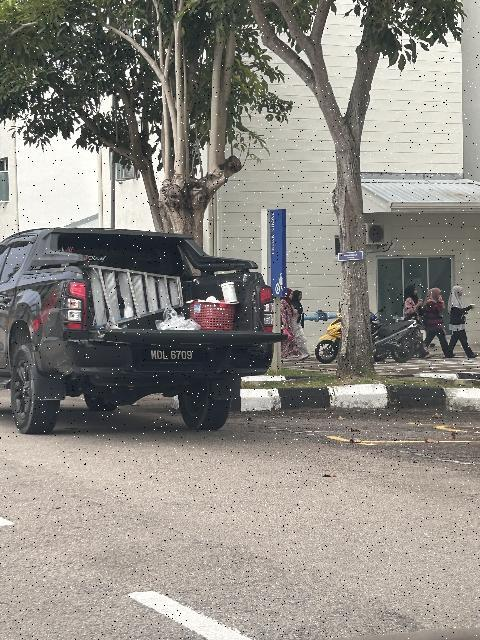License_Plate: (140, 347, 214, 366)
MDL6709: (140, 347, 214, 366)
car: (1, 226, 285, 433)
